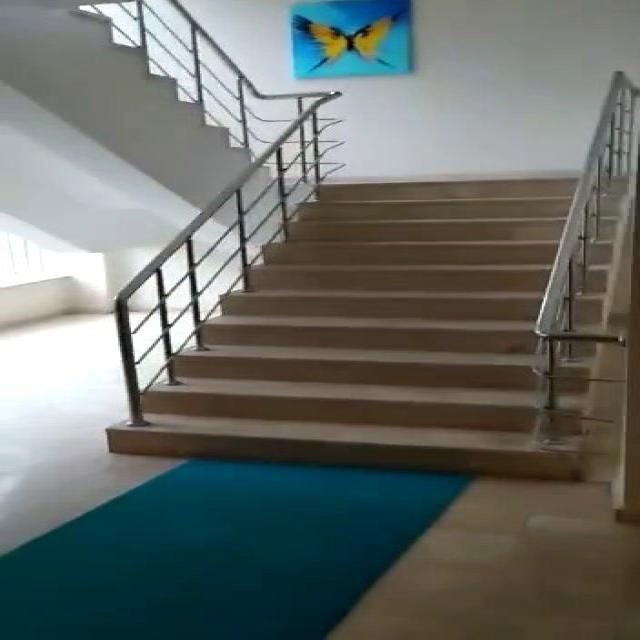stairs: (106, 175, 624, 480)
